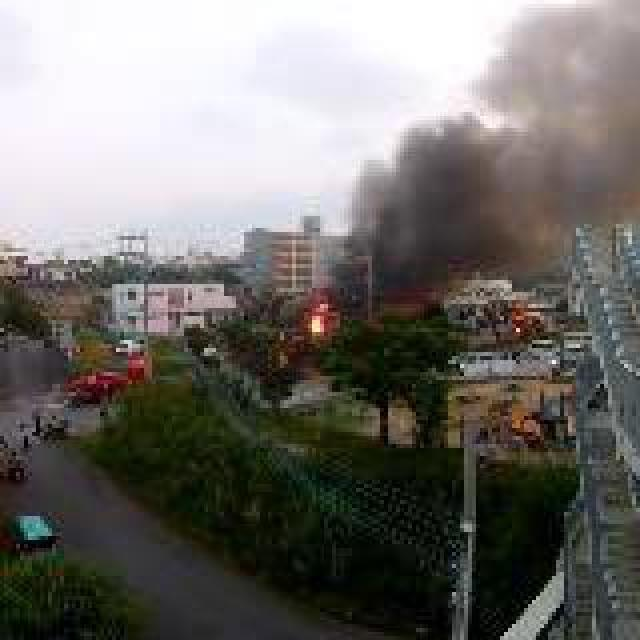smoke: (476, 0, 640, 228), (336, 108, 496, 340)
